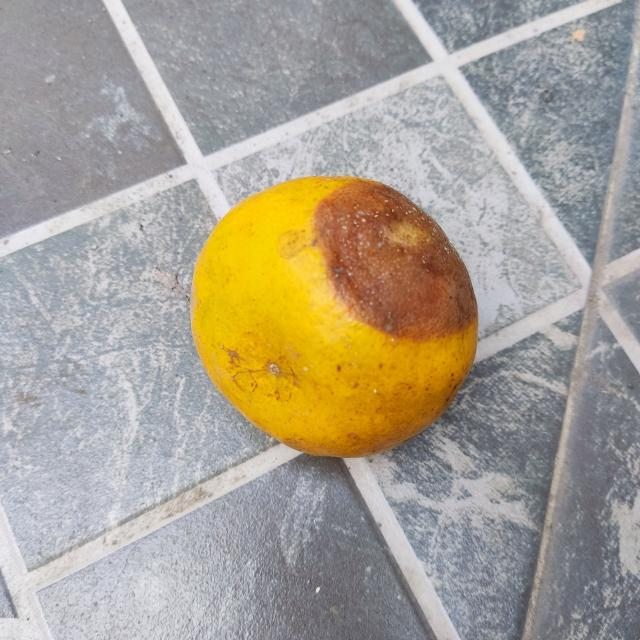orange: (187, 173, 479, 456)
